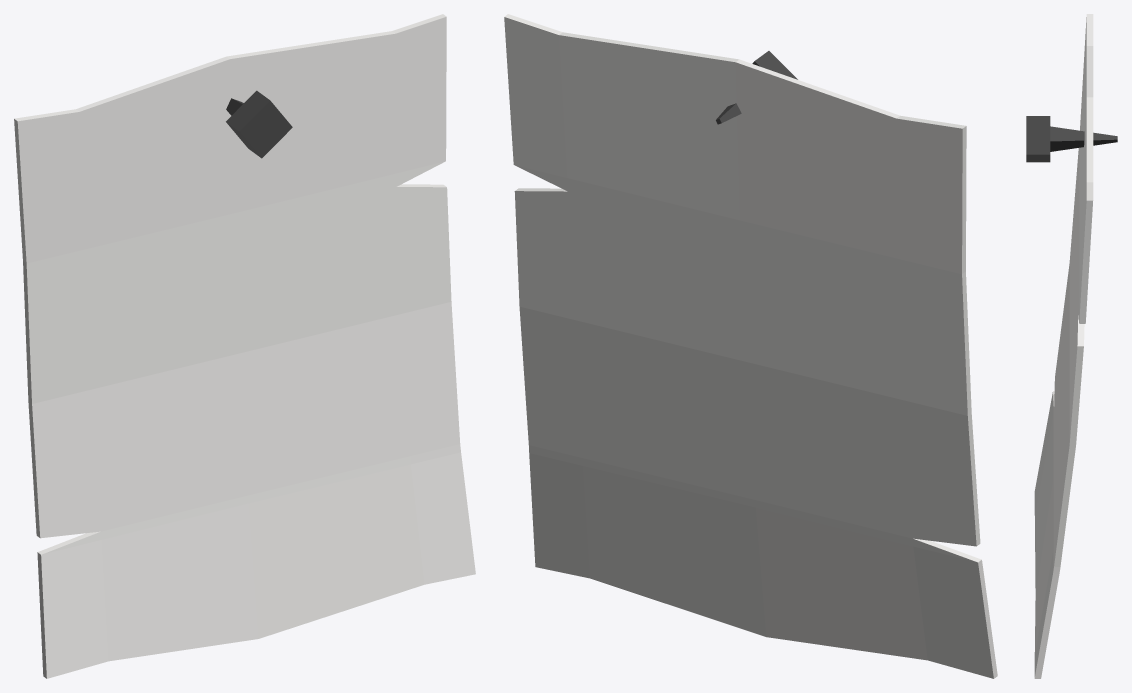
The model's file is Announcement_2.fbx.
3 renders of one model, left to right at view 1: azimuth 30°, elevation 25°; view 2: azimuth 150°, elevation 25°; view 3: azimuth 270°, elevation 25°, orthographic. The views are drawn at different scales.
Visible parts, largest first — view 1: Announcement_2; view 2: Announcement_2; view 3: Announcement_2.
Boxes of the visible parts, left/top/right/bottom form: Announcement_2: left=14, top=14, right=475, bottom=678; Announcement_2: left=504, top=14, right=997, bottom=678; Announcement_2: left=1026, top=14, right=1117, bottom=678.
Size of the model in its own units: 40.77 by 8.45 by 50.75.
